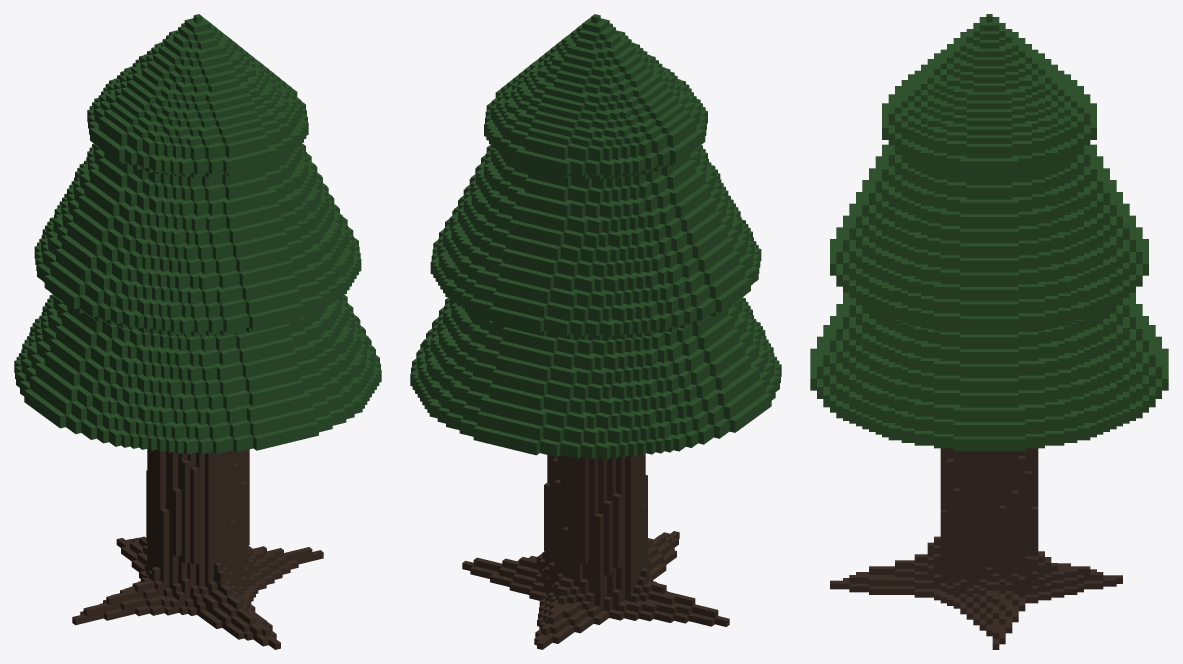
The model's file is Tree 2.obj.
The picture shows the model from 3 angles, left to right: view 1: azimuth 30°, elevation 25°; view 2: azimuth 150°, elevation 25°; view 3: azimuth 270°, elevation 25°; orthographic projection.
Size of the model in its own units: 5.5 by 9.7 by 5.5.
1 material, 1 textured.
